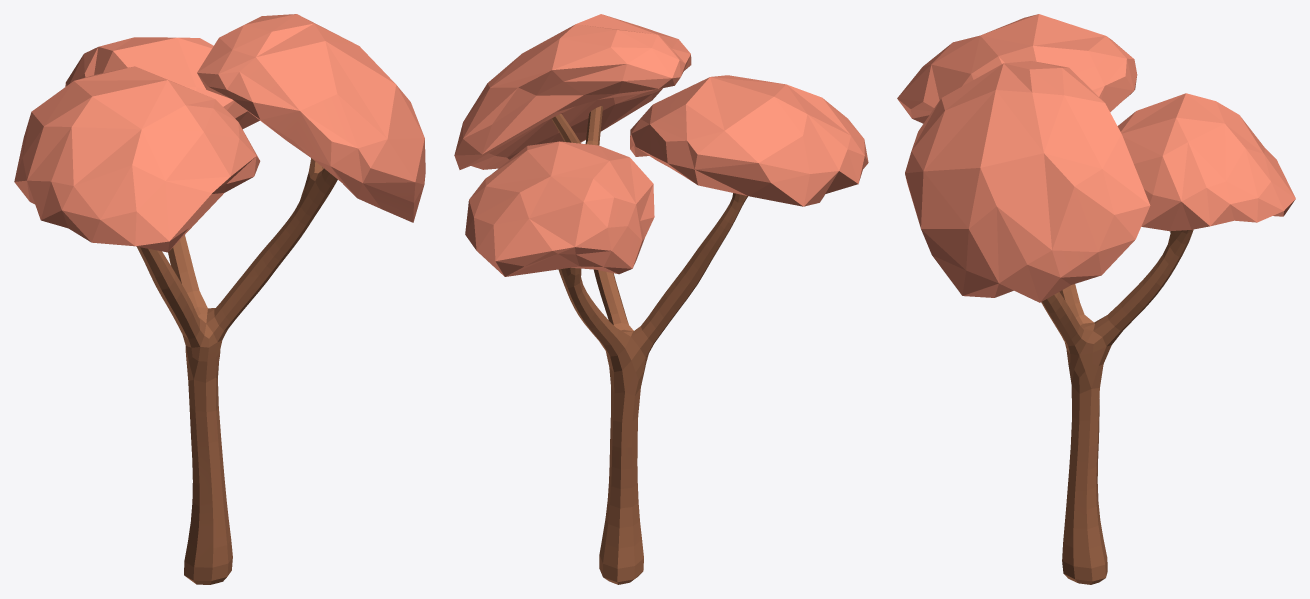
The model's file is arbolCerezoPequeño.glb.
3 views of the same model, side by side, from view 1: azimuth 30°, elevation 25°; view 2: azimuth 150°, elevation 25°; view 3: azimuth 270°, elevation 25° (orthographic). The views are drawn at different scales.
Size of the model in its own units: 6.18 by 8.51 by 5.84.
Materials: 1 (1 with a texture image).
